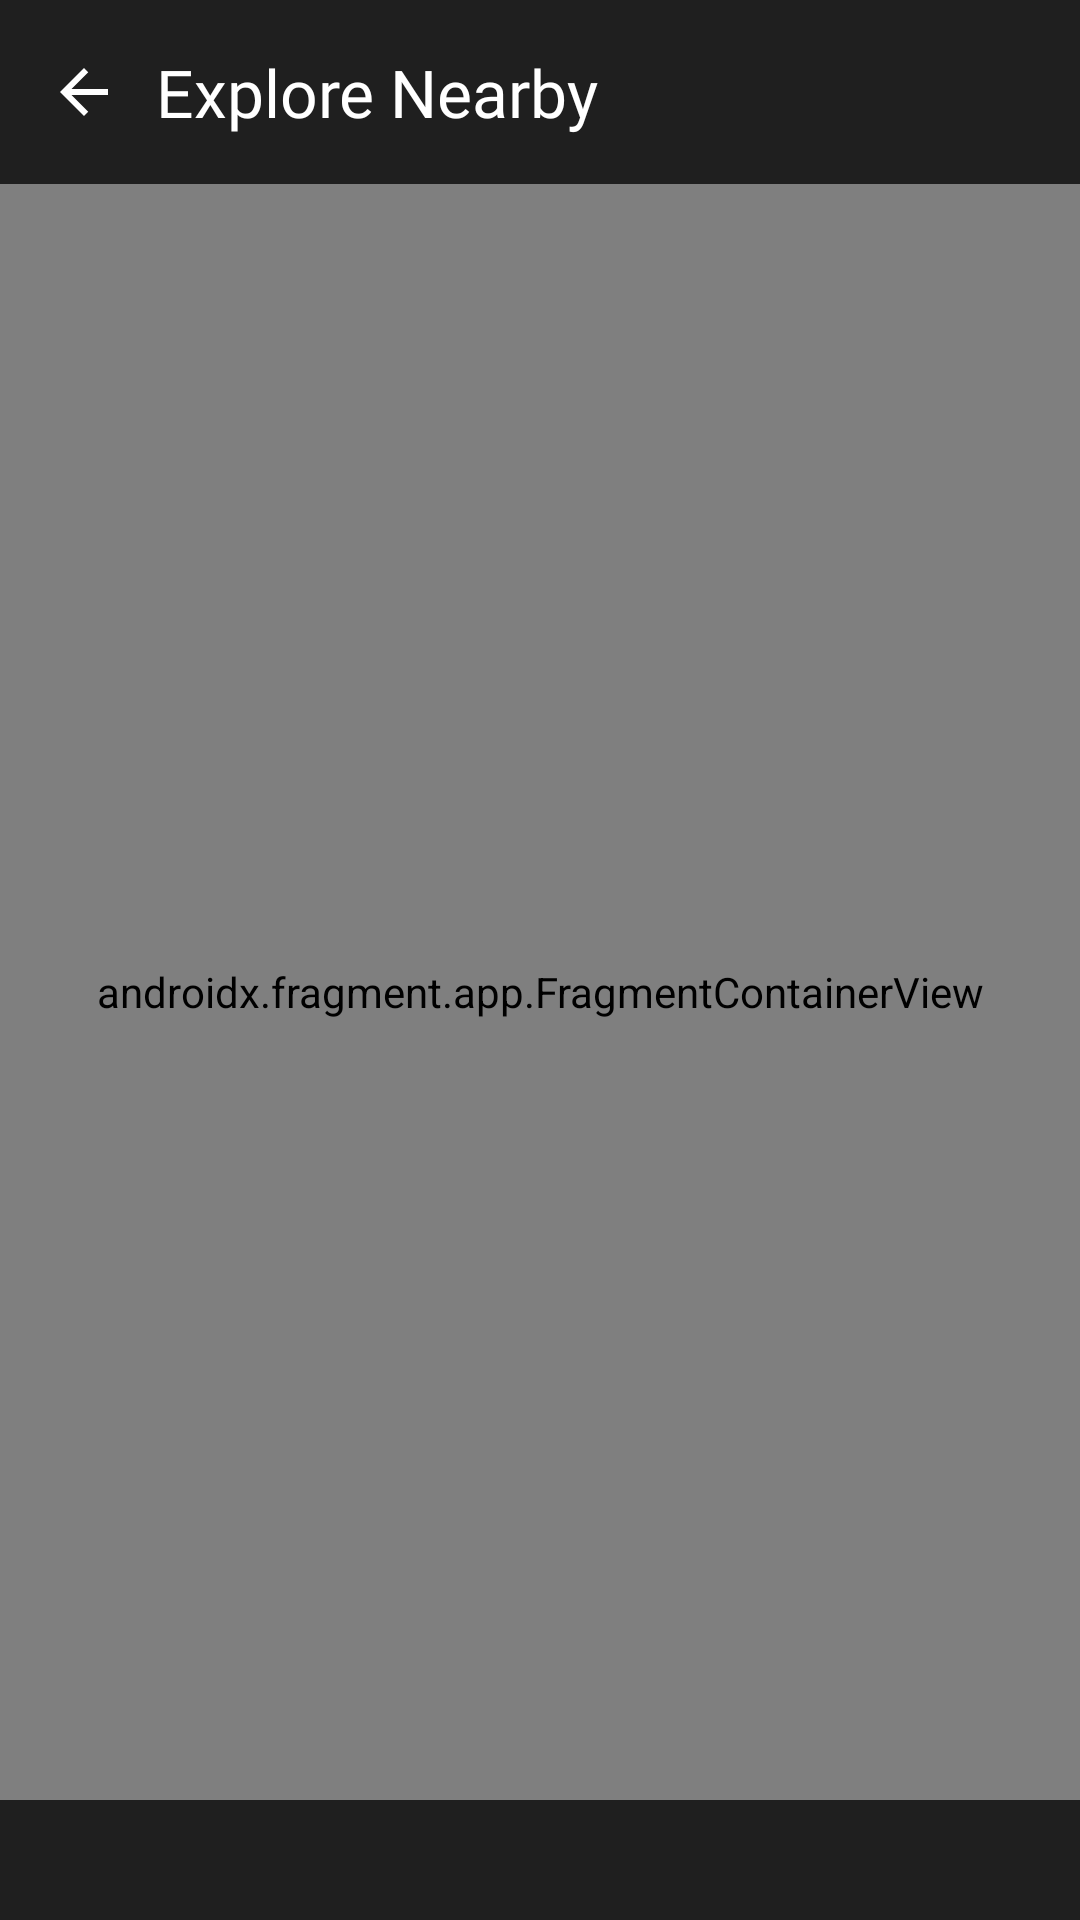

Named icons in this screenshot (1080px x 1920px) and their bounding boxes, (x1, y1, x2, y2):
Back Button: (60, 68, 108, 116)
